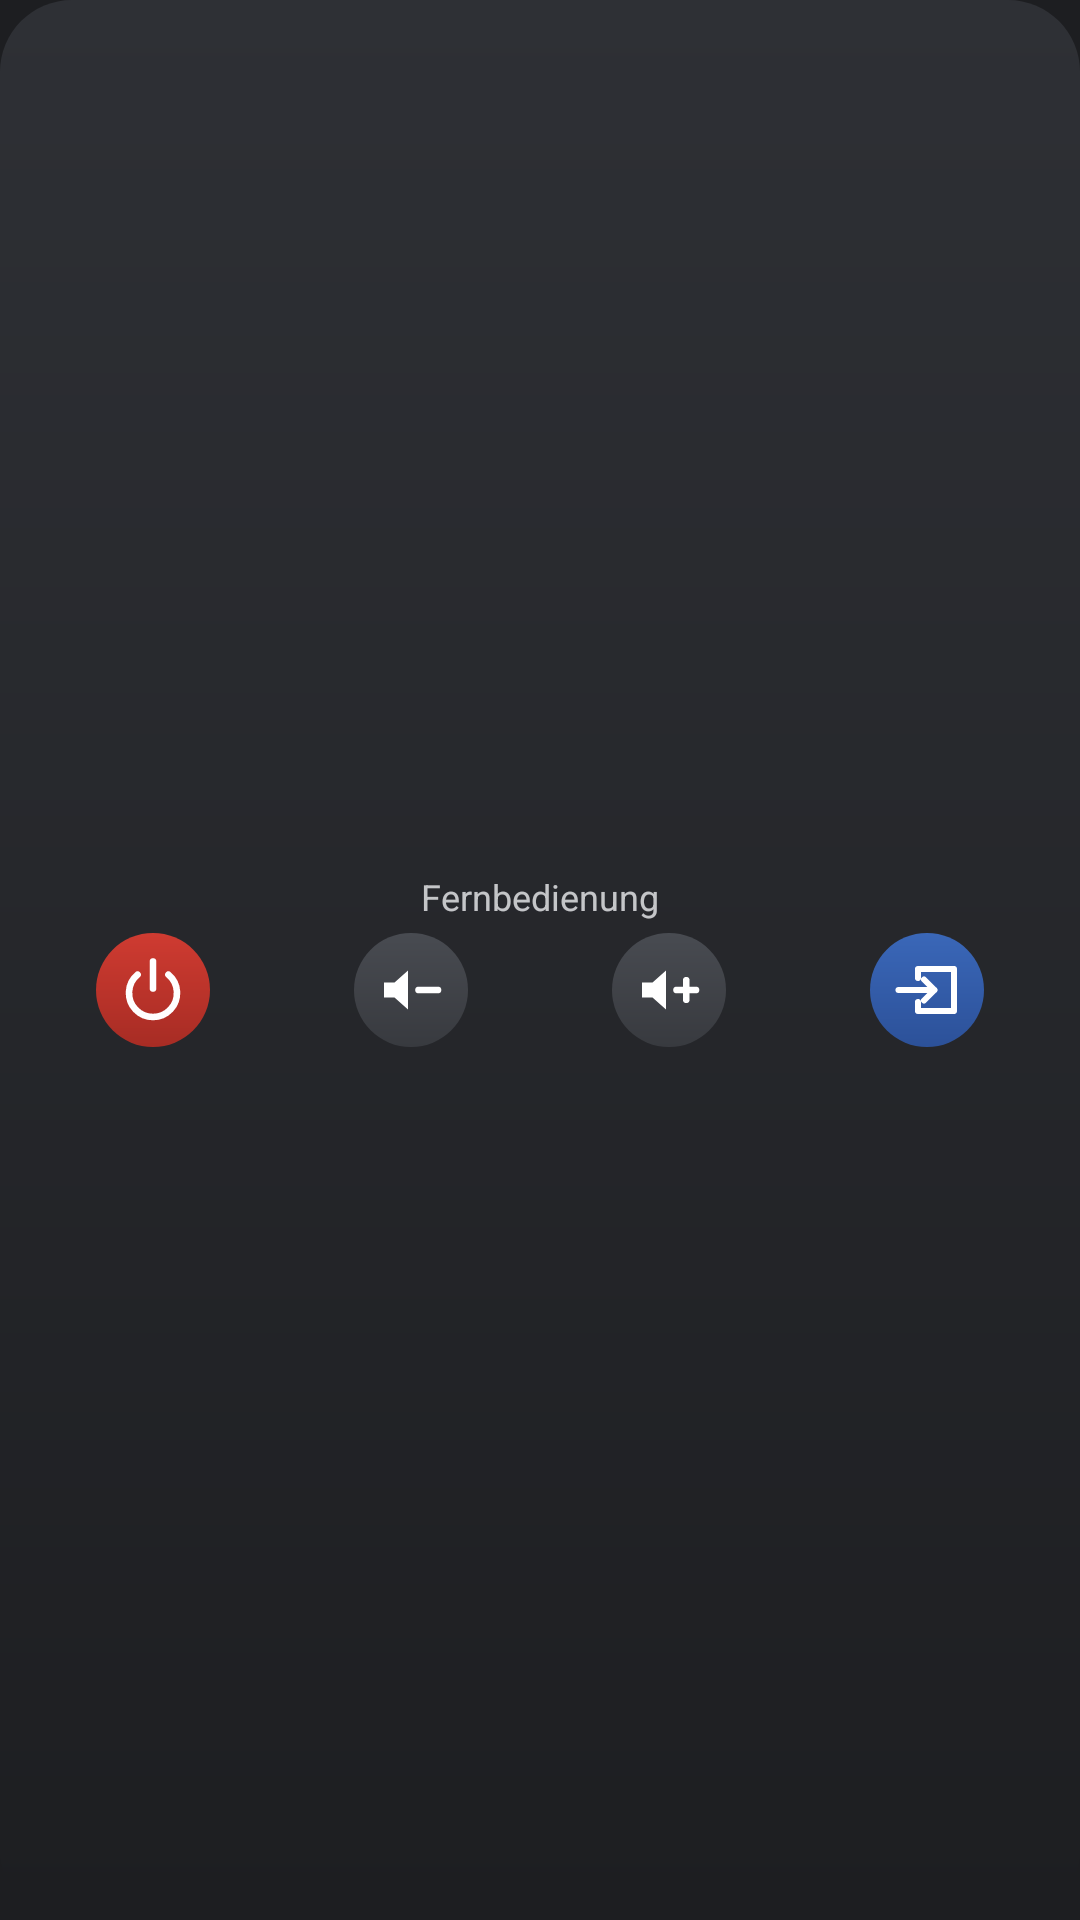

Named icons in this screenshot (1080w x 1920h) and their bounding boxes, (x1, y1, x2, y2):
quick input: (891, 966, 963, 1026)
quick power: (117, 958, 189, 1026)
quick vol down: (384, 970, 442, 1010)
quick vol up: (642, 970, 700, 1010)
